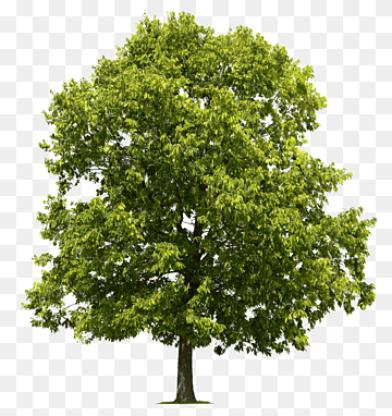tree: (31, 4, 383, 405)
